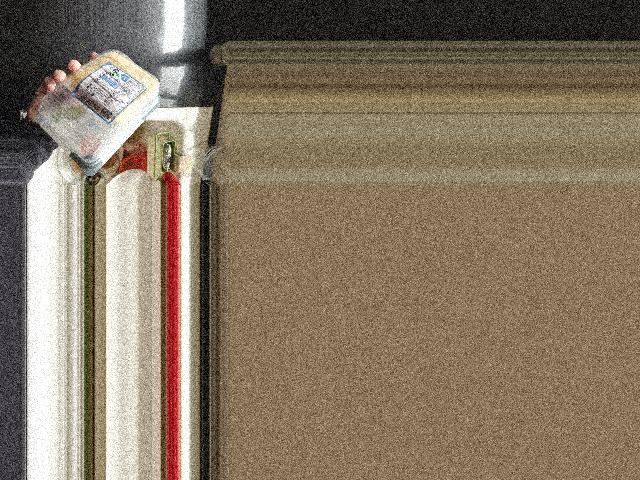cheese: (36, 57, 161, 157)
